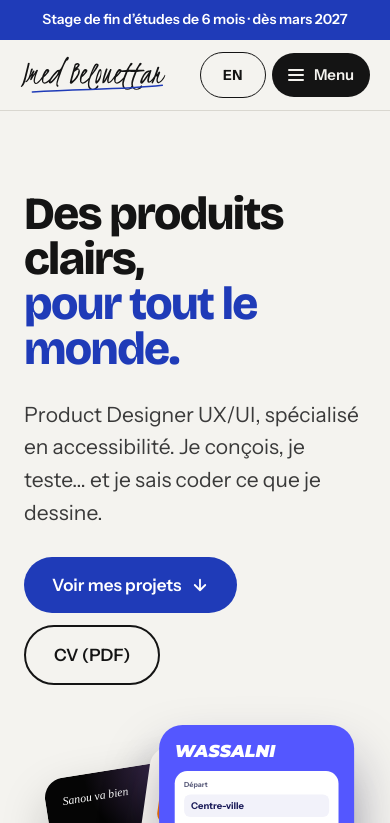
Test: English pages › switches from French to English with the language buttons
The width and height of the screenshot is (390, 823).
Click the button with aria-label "EN, passer le site en anglais".
click(233, 75)  # box [200,52,266,98]
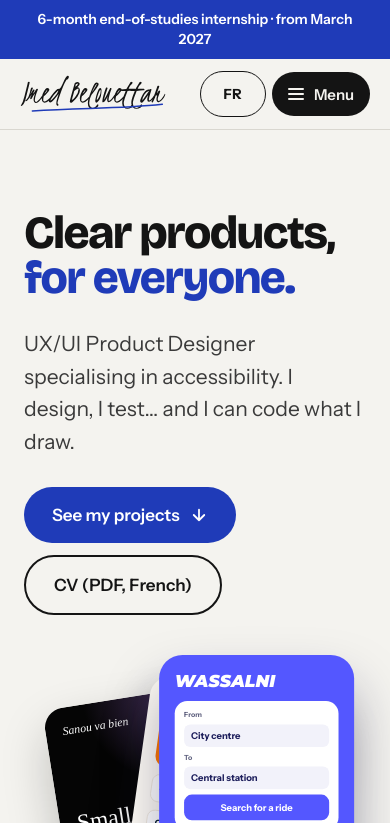
Expected: the heading "Clear products, for everyone." is shown, [24,210,366,300]
Expected: the button with aria-label "FR, switch the site to French" reads "FR", [200,71,266,117]
